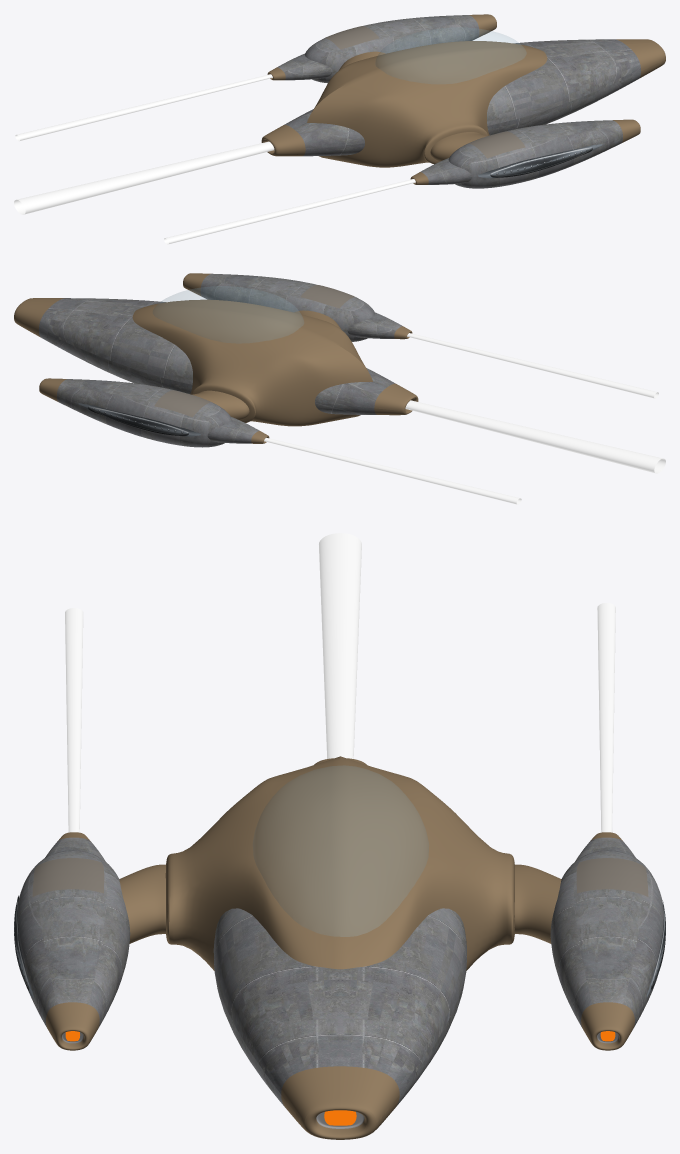
File: nms-fan-ship-detail.glb
The picture shows the model from 3 angles, top to bottom: view 1: azimuth 30°, elevation 25°; view 2: azimuth 150°, elevation 25°; view 3: azimuth 270°, elevation 25°; orthographic projection. The views are drawn at different scales.
Parts seen in each view (by area): view 1: nms-fan-ship; view 2: nms-fan-ship; view 3: nms-fan-ship.
Boxes of the visible parts, x1,y1,x2,y2 form: nms-fan-ship: (14, 14, 665, 244); nms-fan-ship: (14, 273, 665, 504); nms-fan-ship: (14, 533, 665, 1139).
Bounding box in the file's own units: 46 × 7.37 × 21.89.
11 materials, 5 textured.
